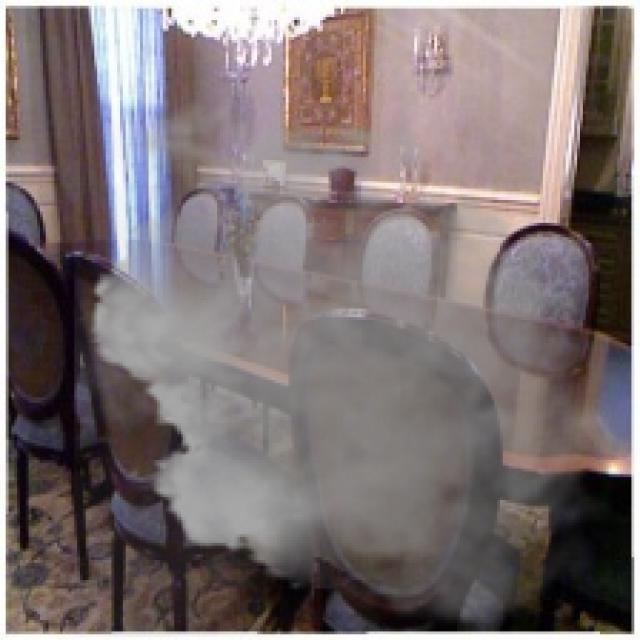Smoke: (74, 82, 637, 638)
